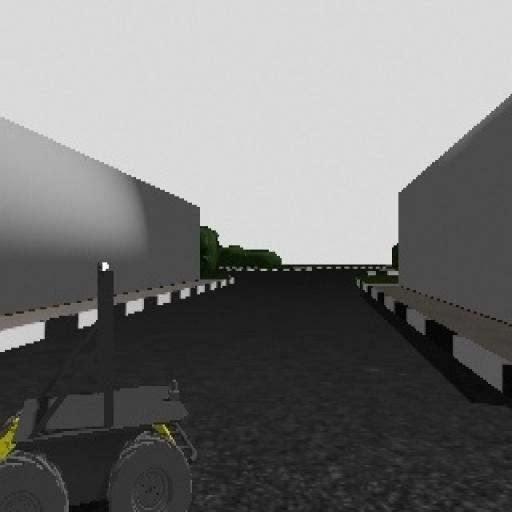huskya200: (0, 230, 208, 512)
